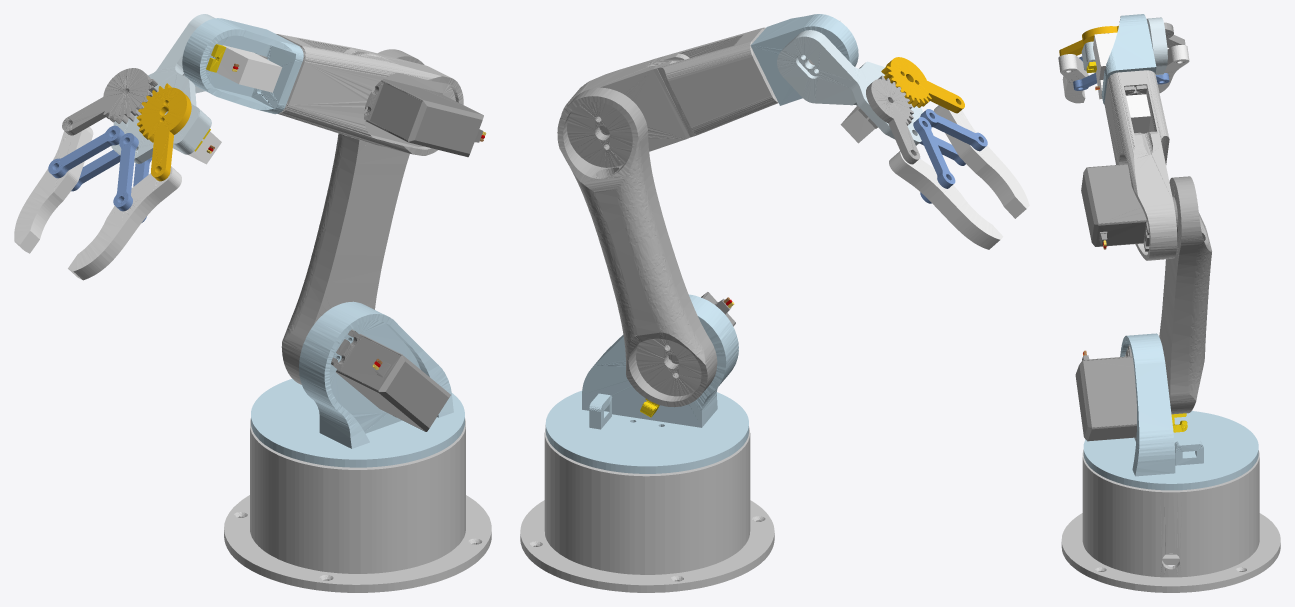
File: thearm_opt.glb
3 views of the same model, side by side, from view 1: azimuth 30°, elevation 25°; view 2: azimuth 150°, elevation 25°; view 3: azimuth 270°, elevation 25° (orthographic). The views are drawn at different scales.
Visible parts, largest first — view 1: Node3, Node8, Node1, Node6, Node12, Node14, Node11, Node13, Node9; view 2: Node3, Node1, Node8, Node12, Node14, Node11, Node13, Node9; view 3: Node3, Node8, Node6, Node1, Node12, Node9, Node14, Node13, Node11, Node10.
Part boxes in pixels (x1,y1,x2,y2): Node3: [224, 34, 491, 592]; Node8: [182, 18, 464, 467]; Node1: [62, 49, 424, 384]; Node6: [331, 79, 483, 431]; Node12: [14, 127, 181, 280]; Node14: [111, 14, 214, 163]; Node11: [48, 125, 152, 222]; Node13: [136, 83, 191, 181]; Node9: [188, 45, 282, 164]; Node3: [520, 27, 778, 592]; Node1: [557, 37, 920, 407]; Node8: [545, 14, 858, 473]; Node12: [889, 105, 1029, 249]; Node14: [777, 30, 923, 145]; Node11: [913, 109, 987, 203]; Node13: [881, 57, 964, 113]; Node9: [808, 21, 875, 143]; Node3: [1061, 70, 1280, 592]; Node8: [1083, 14, 1258, 490]; Node6: [1075, 164, 1178, 441]; Node1: [1124, 22, 1211, 414]; Node12: [1058, 45, 1189, 103]; Node9: [1093, 32, 1150, 133]; Node14: [1081, 17, 1167, 74]; Node13: [1059, 25, 1118, 55]; Node11: [1073, 56, 1169, 90]; Node10: [1086, 61, 1187, 432].
Size of the model in its own units: 248 by 284 by 123.
